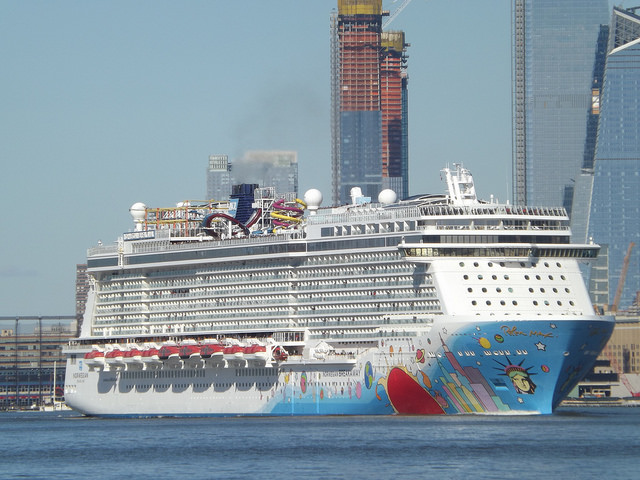cruise_ship: (63, 173, 614, 421)
